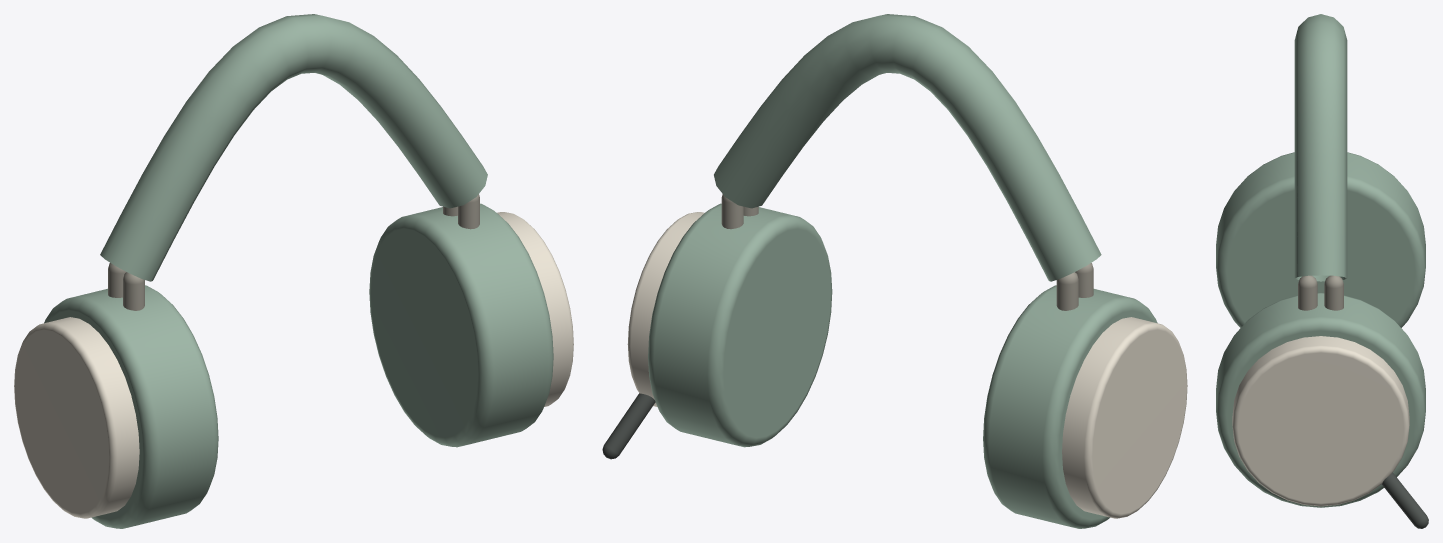
Rendered from headphones.glb.
The picture shows the model from 3 angles, left to right: view 1: azimuth 30°, elevation 25°; view 2: azimuth 150°, elevation 25°; view 3: azimuth 270°, elevation 25°; orthographic projection. The views are drawn at different scales.
Visible parts, largest first — view 1: Ear cushion.001, Curved padded headband, Ear cushion, Outer ear shell, Outer ear shell.001, Yoke; view 2: Ear cushion.001, Curved padded headband, Ear cushion, Outer ear shell, Outer ear shell.001, Audio lead, Yoke.001; view 3: Outer ear shell.001, Ear cushion, Curved padded headband, Ear cushion.001, Audio lead, Yoke.002, Yoke.003.
Boxes of the visible parts, <box> form: Ear cushion.001: <box>369,203,553,447</box>; Curved padded headband: <box>100,14,487,281</box>; Ear cushion: <box>44,285,218,528</box>; Outer ear shell: <box>14,317,139,518</box>; Outer ear shell.001: <box>497,212,573,406</box>; Yoke: <box>123,272,144,310</box>; Ear cushion.001: <box>648,203,832,447</box>; Curved padded headband: <box>714,14,1101,281</box>; Ear cushion: <box>983,285,1157,528</box>; Outer ear shell: <box>1062,317,1187,518</box>; Outer ear shell.001: <box>627,212,704,406</box>; Audio lead: <box>602,393,655,459</box>; Yoke.001: <box>1056,272,1078,310</box>; Outer ear shell.001: <box>1232,336,1409,506</box>; Ear cushion: <box>1216,152,1425,327</box>; Curved padded headband: <box>1294,14,1347,281</box>; Ear cushion.001: <box>1216,293,1425,507</box>; Audio lead: <box>1381,472,1428,528</box>; Yoke.002: <box>1298,275,1317,310</box>; Yoke.003: <box>1324,275,1343,310</box>.
Size of the model in its own units: 0.1487 by 0.1356 by 0.0649.
